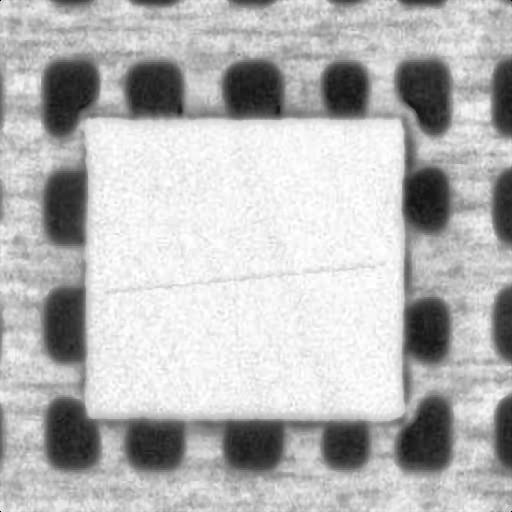DIE_CRACK: (138, 198, 508, 218)
